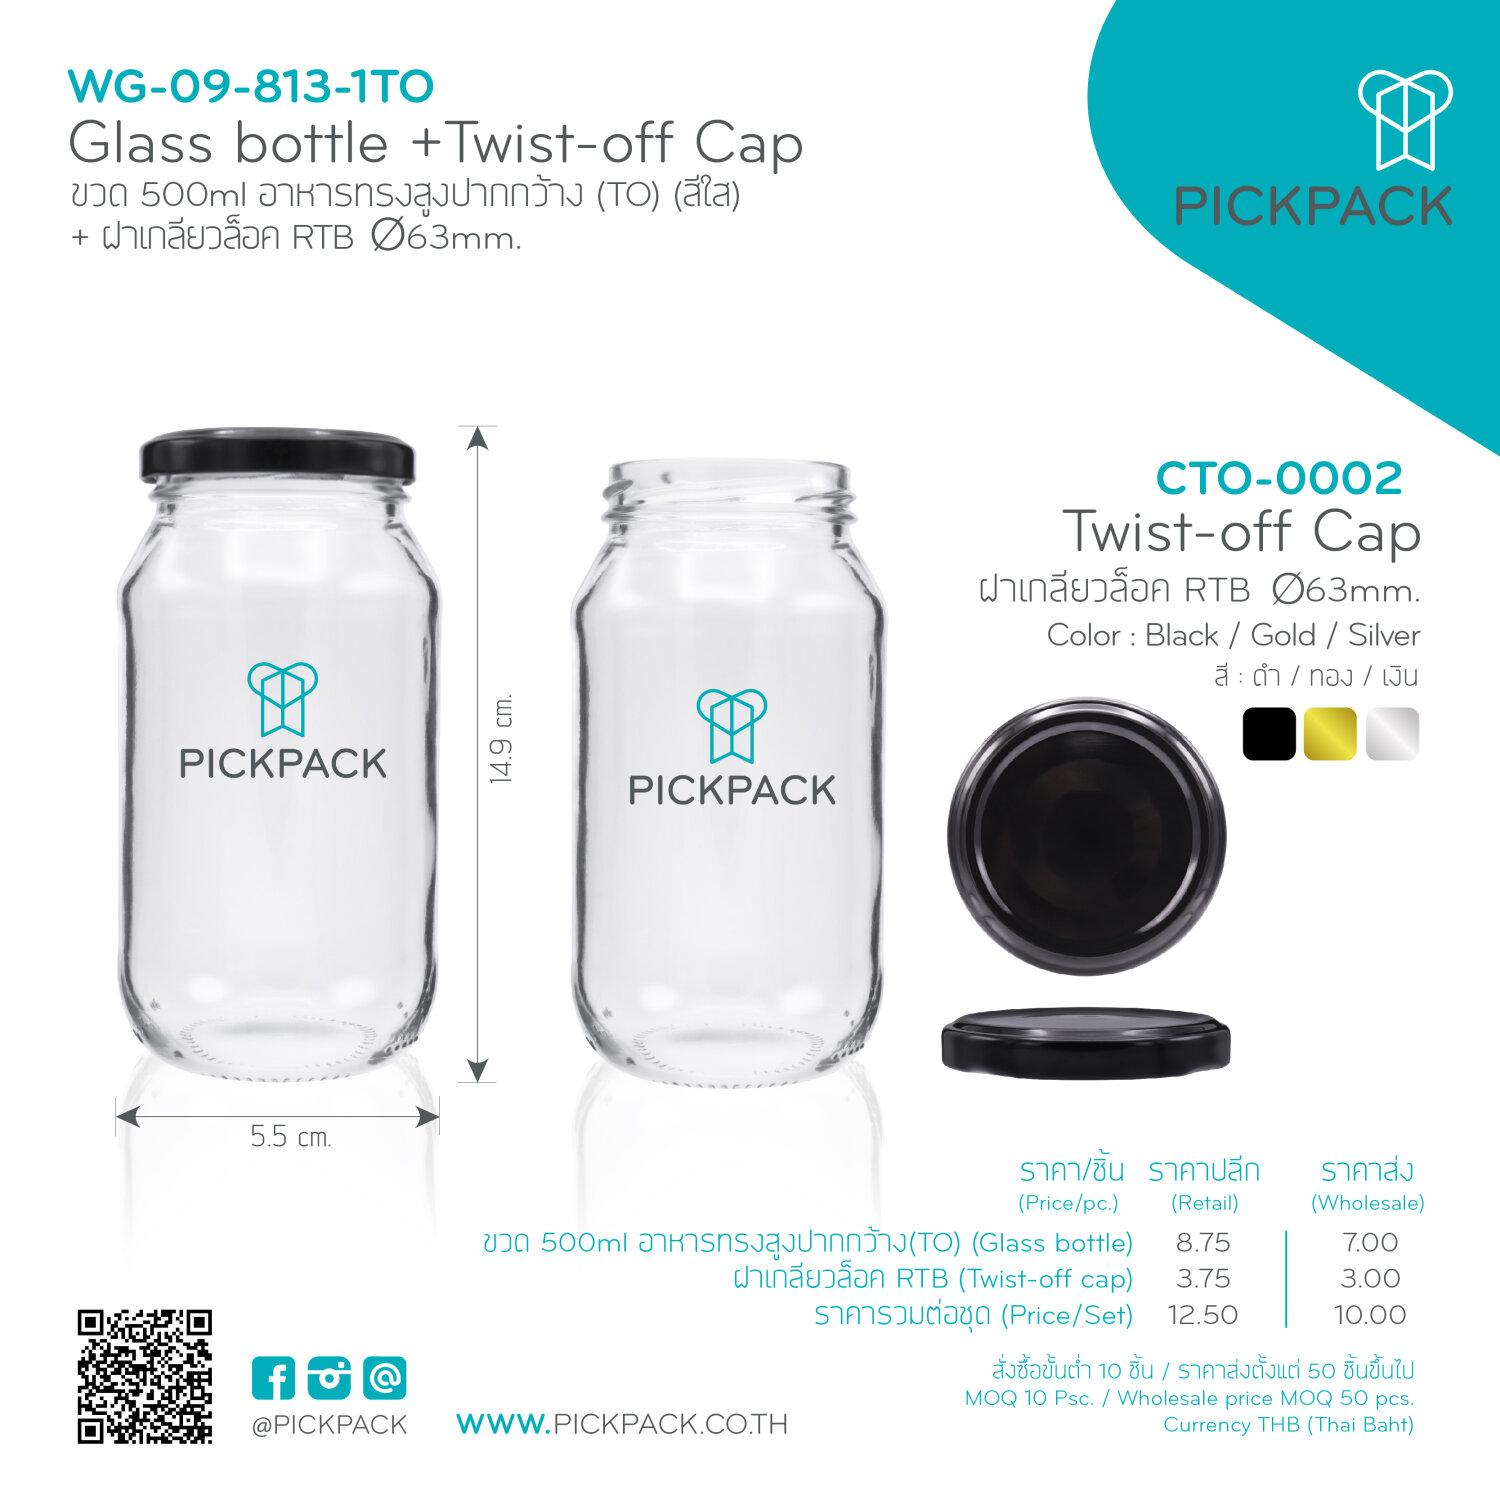glass_bottle: (120, 420, 448, 1095), (569, 437, 891, 1100)
